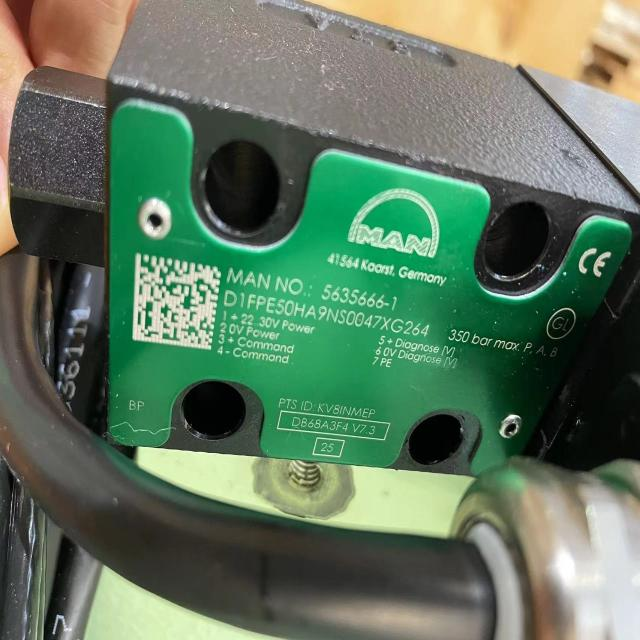dmc: (132, 252, 222, 350)
